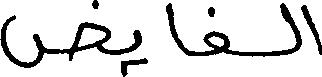X: (0, 0, 109, 72), (204, 2, 227, 60), (301, 0, 321, 59), (166, 0, 185, 58), (282, 0, 299, 59), (132, 25, 139, 69)
